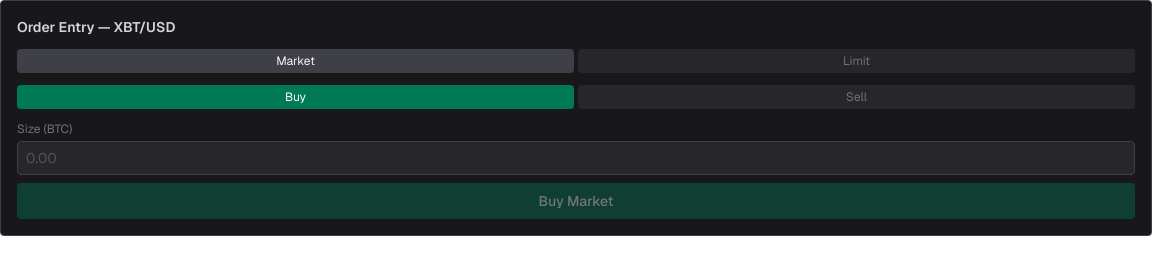
Test: OrderEntry › submit button disabled states › is enabled when a positive size is entered
Type "1" into the number field labelled "Size (BTC)" at (576, 158), box [17, 141, 1135, 175]
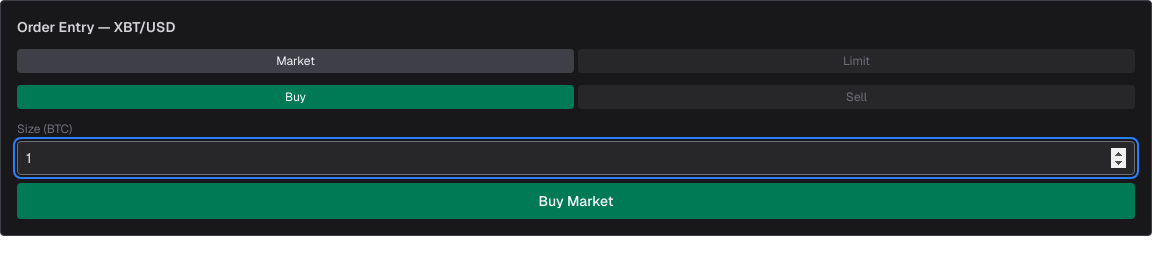
Expected: the button "Buy Market" is enabled, [17, 183, 1135, 219]
